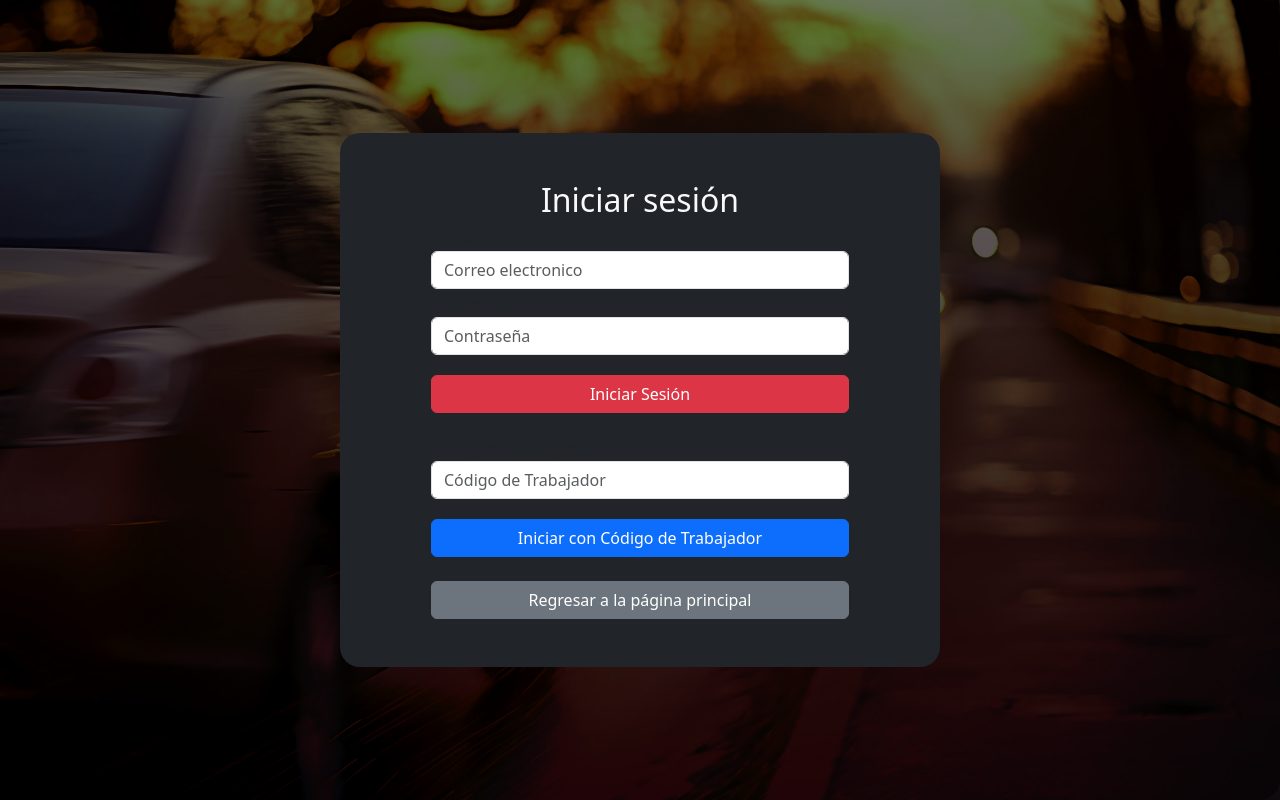
Pruebas E2E para Login Conductor › Debe mostrar un error si el inicio de sesión falla
// Introduce un usuario y contraseña inválidos
Type "usuario_invalido@ejemplo.com" into the field with id "user".
click(640, 270); type("usuario_invalido@ejemplo.com")  # box [431, 251, 849, 289]
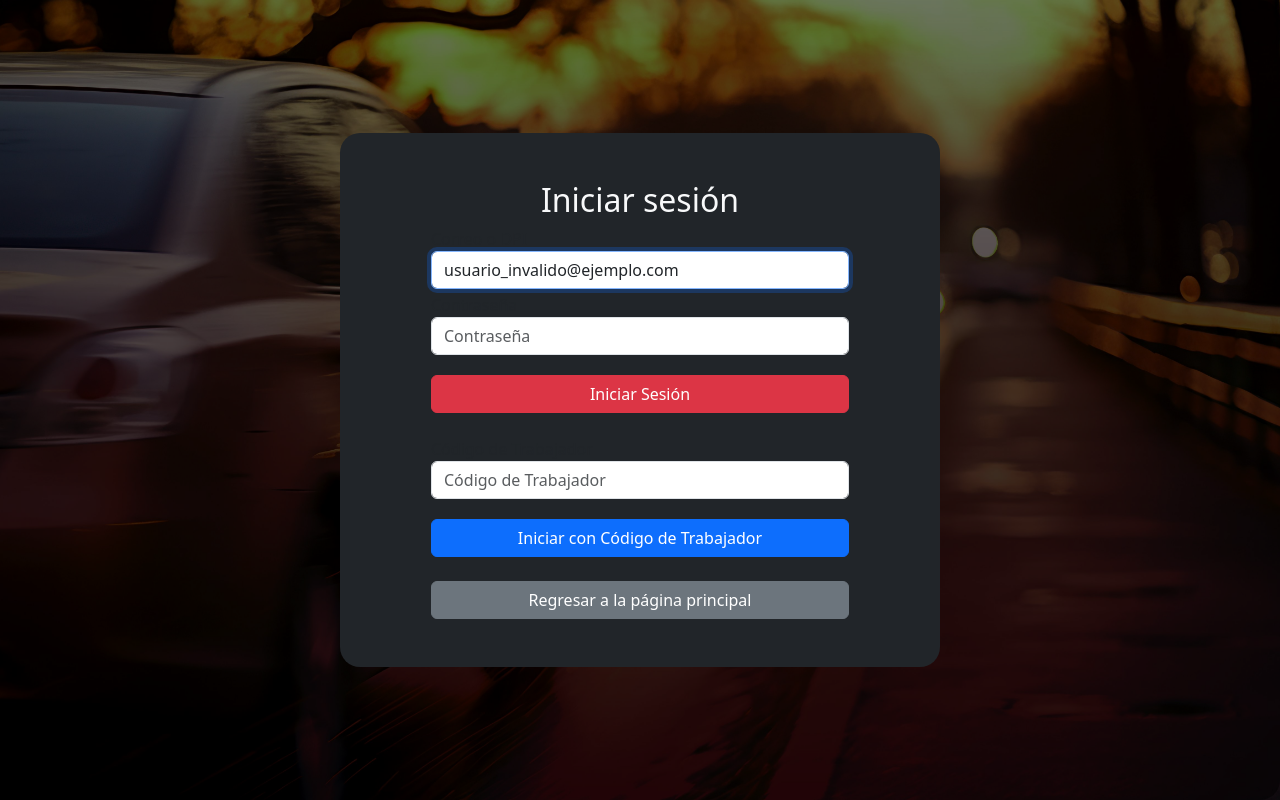
Type "contraseña_incorrecta" into the password field with placeholder "Contraseña".
click(640, 336); type("contraseña_incorrecta")  # box [431, 317, 849, 355]
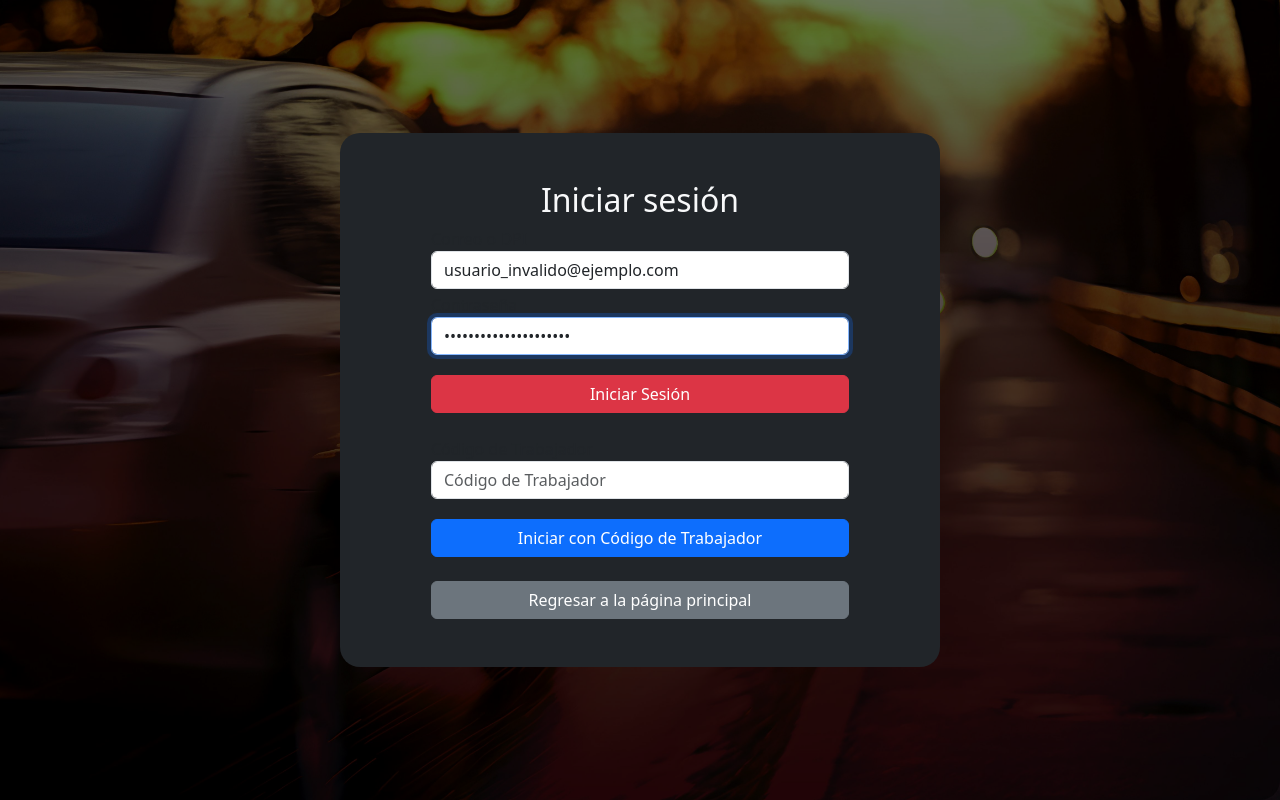
// Clic en el botón de inicio de sesión con el ID nuevo
Click the button with id "login-button".
click(640, 394)  # box [431, 375, 849, 413]
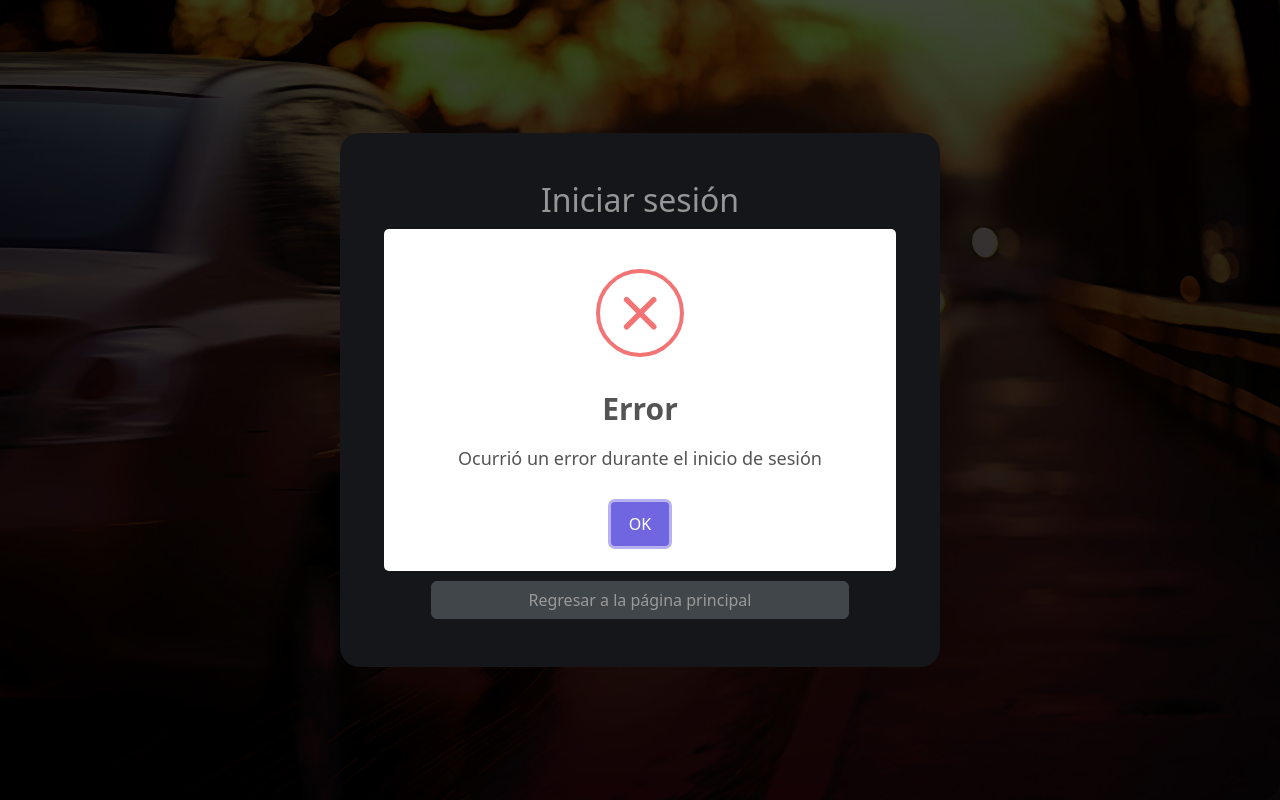
Expected: the dialog with class "swal2-popup" is shown, [384, 229, 896, 571]
